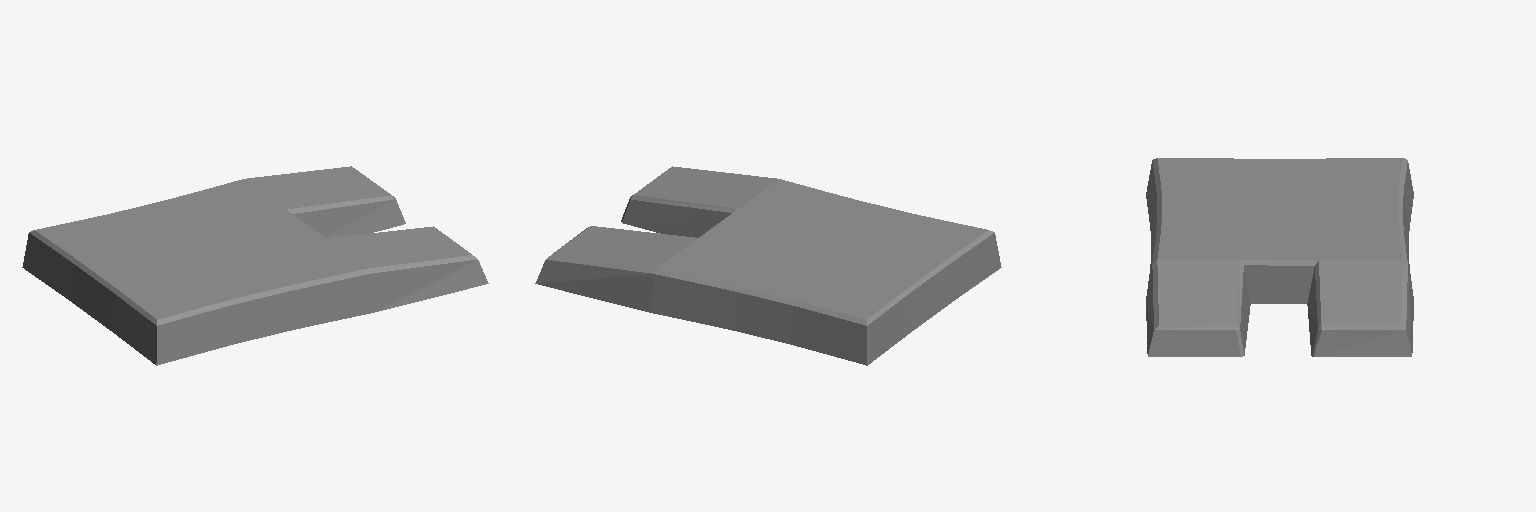
The model's file is colchoneta.obj.
3 views of the same model, side by side, from view 1: azimuth 30°, elevation 25°; view 2: azimuth 150°, elevation 25°; view 3: azimuth 270°, elevation 25° (orthographic).
Visible parts, largest first — view 1: Vault_Pit; view 2: Vault_Pit; view 3: Vault_Pit.
Part boxes in pixels (left/top/right/bottom): Vault_Pit: left=22, top=166, right=488, bottom=365; Vault_Pit: left=535, top=166, right=1001, bottom=365; Vault_Pit: left=1146, top=158, right=1413, bottom=356.
Bounding box in the file's own units: 91.75 × 10.58 × 63.98.